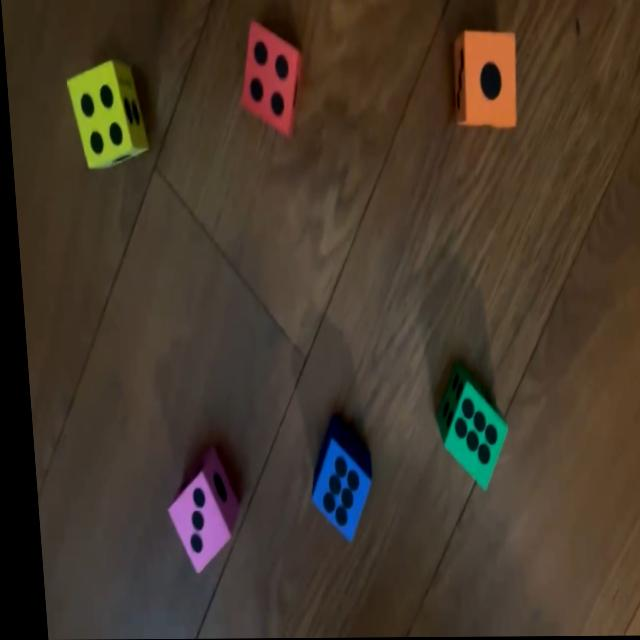cube: (428, 368, 505, 493), (298, 415, 369, 541), (234, 22, 304, 138)
